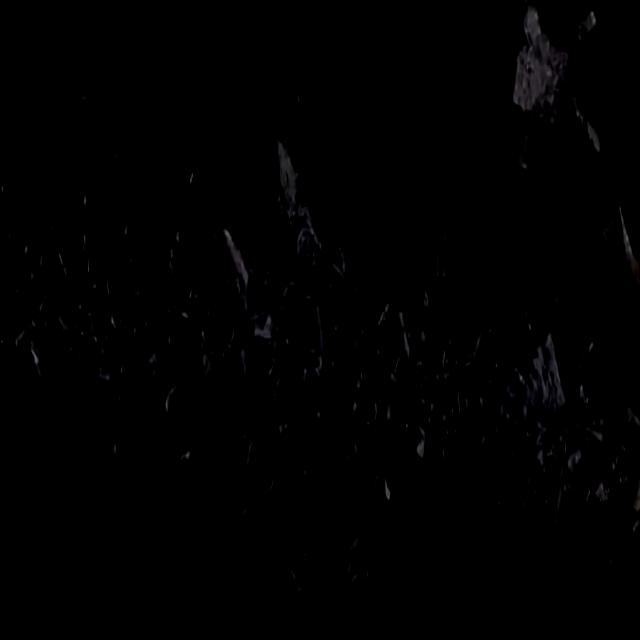large_debris: (491, 315, 583, 525), (501, 0, 608, 177), (215, 220, 330, 380), (272, 124, 356, 288), (599, 194, 640, 290), (284, 506, 323, 602), (432, 185, 456, 290)
